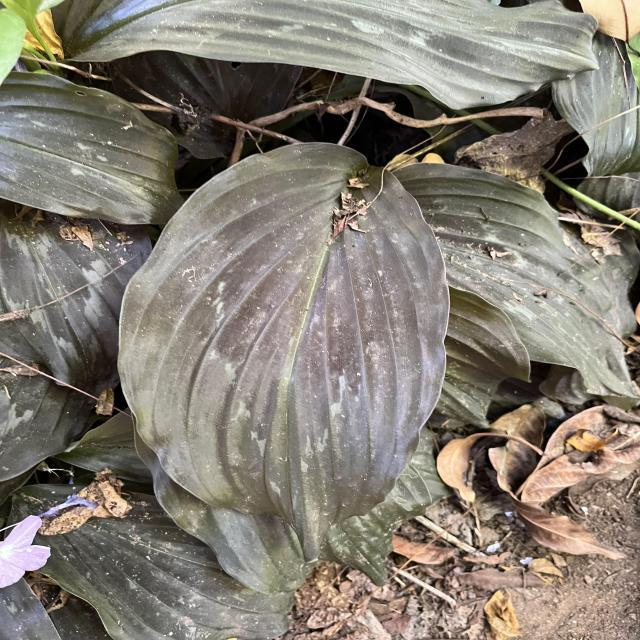Kaempferia galanga linn: (112, 138, 452, 568)
